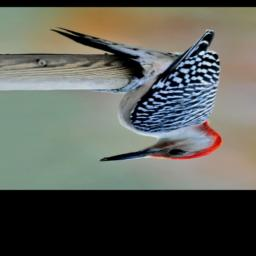Woodpecker: (37, 18, 239, 167)
